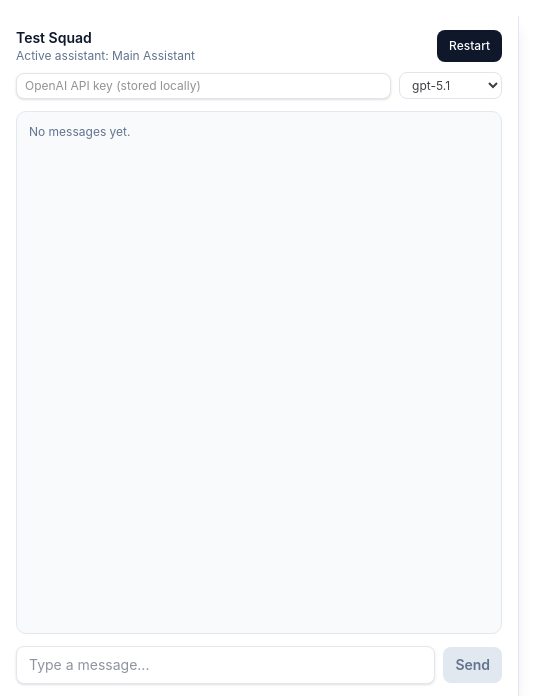
Test: ChatPanel › adds user messages and clears input
Type "Hello" into the field with placeholder "Type a message..." at (226, 665), box [16,646,435,684]
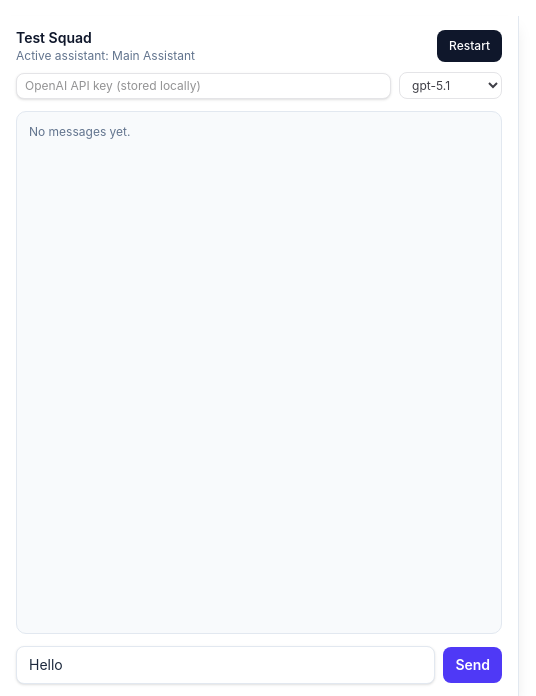
Provide a fake API key to bypass the required check
Type "test-key" into the password field with placeholder "OpenAI API key (stored locally)" at (204, 86), box [16,72,391,98]
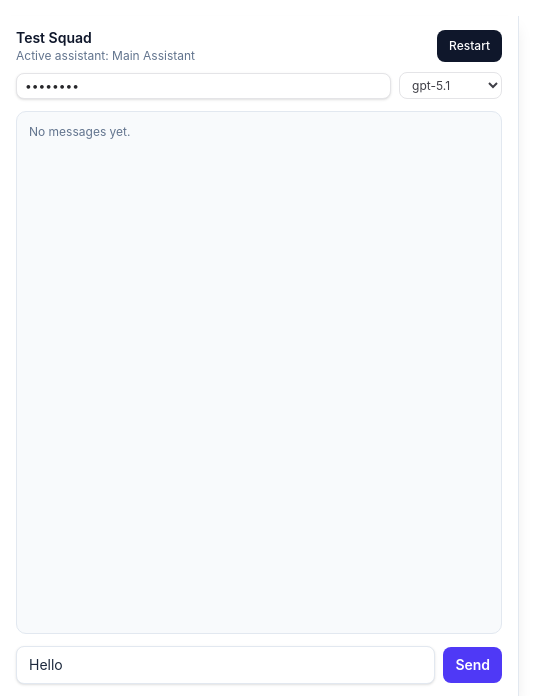
Click the button "Send" at (473, 665), box [443,647,502,683]
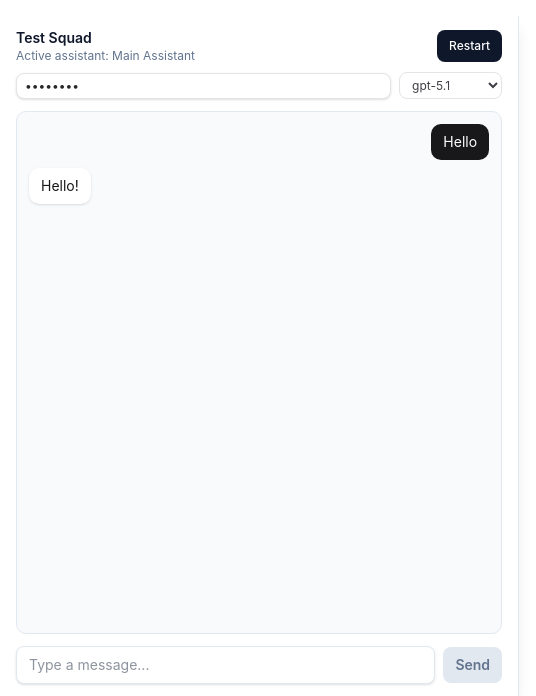
Expected: the text "Hello" is shown, [431,124,489,160]
Expected: the field with placeholder "Type a message..." is empty, [16,646,435,684]
